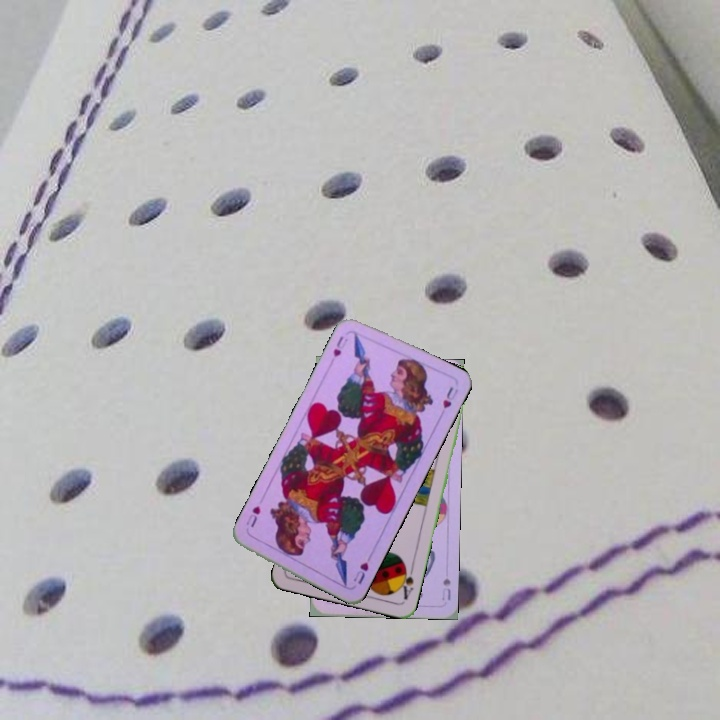HU: (349, 551, 373, 587), (329, 332, 351, 360)
SA: (395, 561, 416, 602)
SU: (438, 574, 453, 602)
